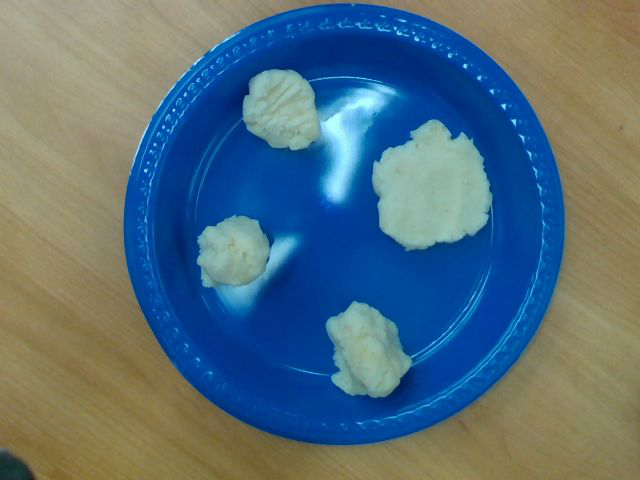mashed_potato: (375, 123, 489, 246), (326, 301, 412, 399), (243, 68, 319, 150), (197, 216, 269, 285)
